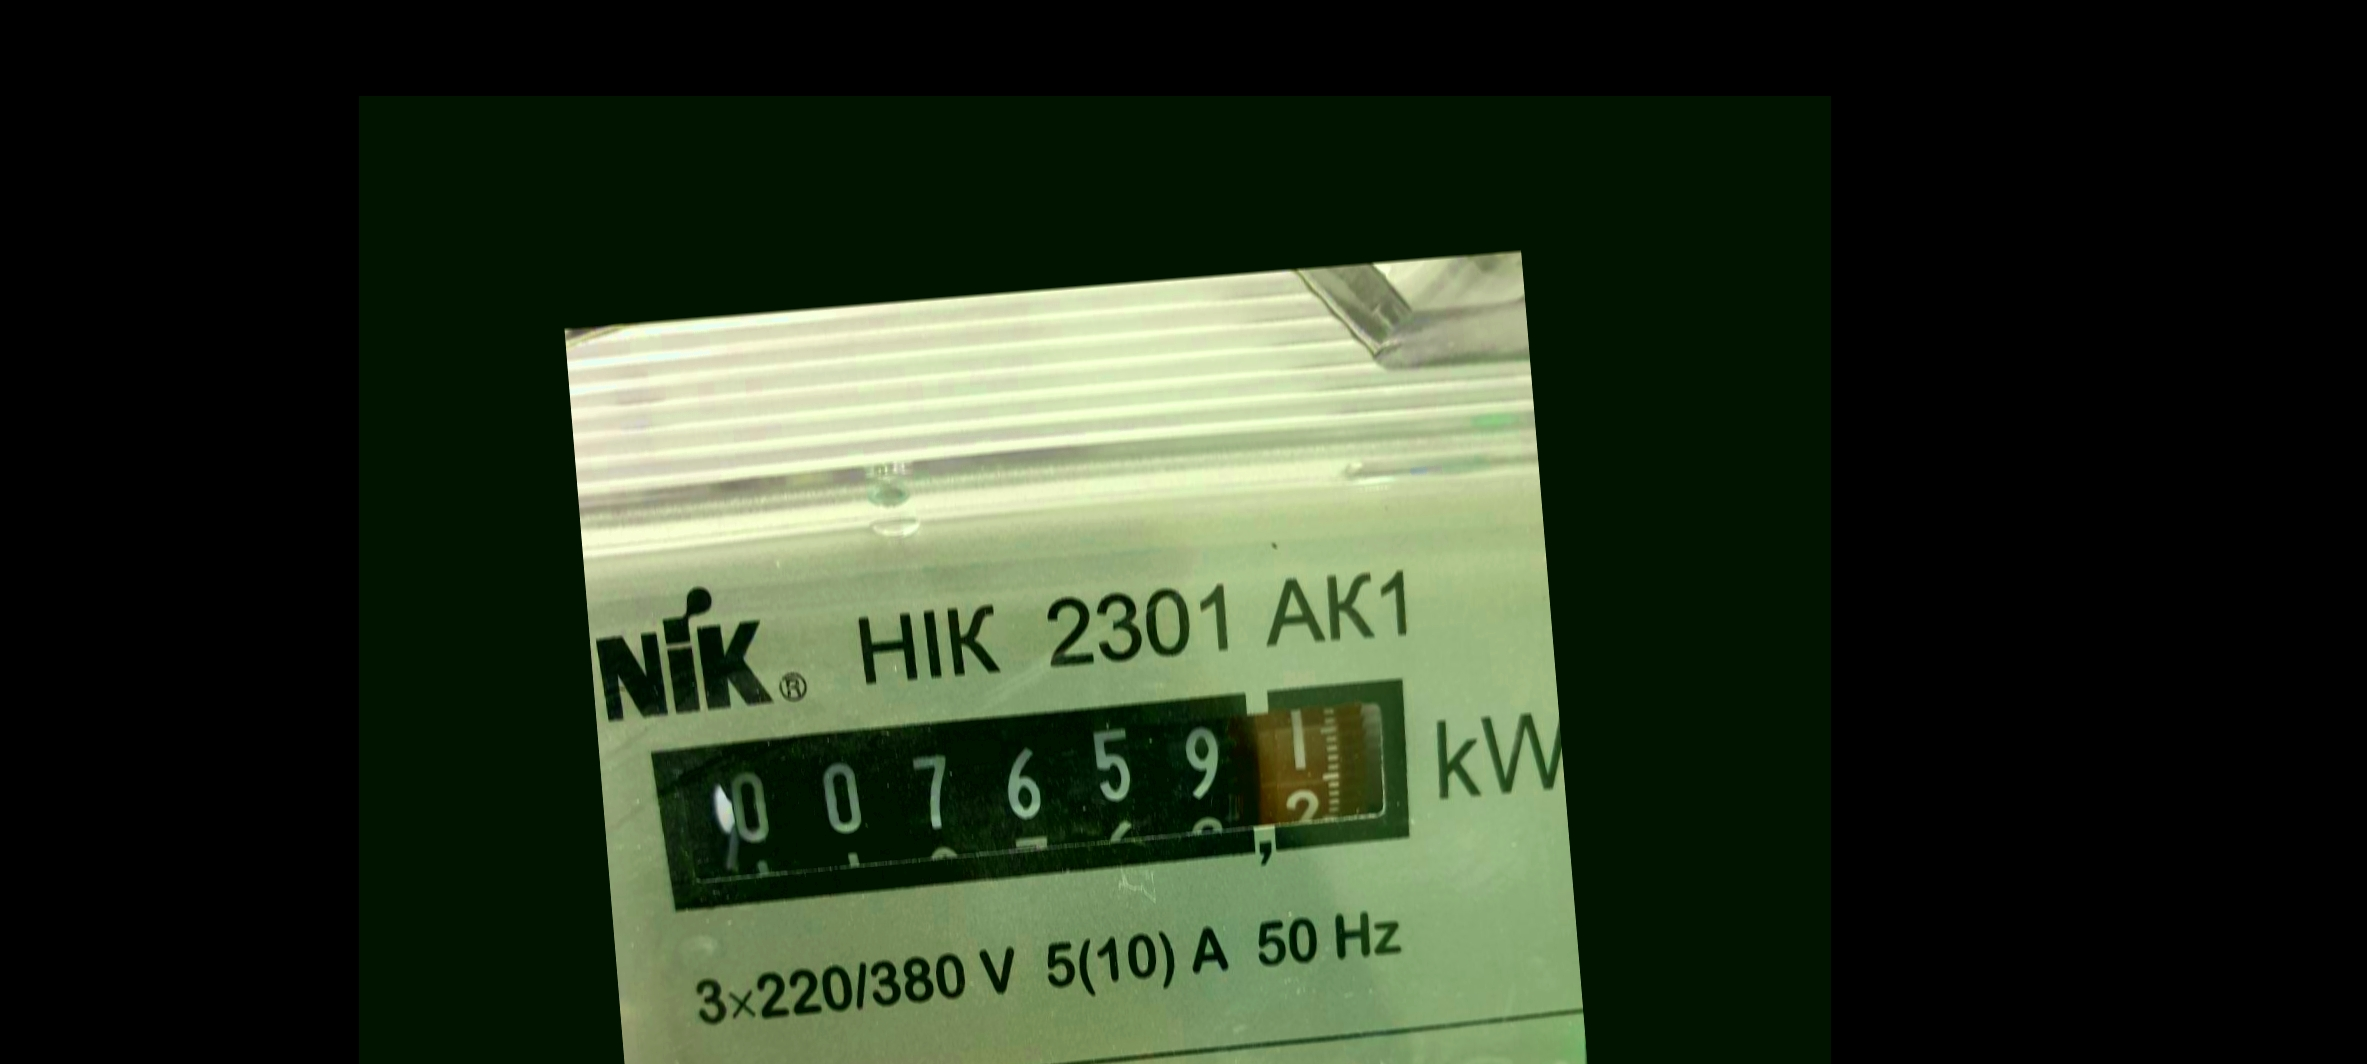0: (809, 753, 873, 844), (722, 761, 779, 856)
1: (1282, 702, 1321, 779)
5: (1085, 723, 1138, 807)
6: (993, 740, 1052, 826)
7: (907, 749, 956, 838)
9: (1179, 718, 1227, 810)
screen: (629, 657, 1439, 936)
